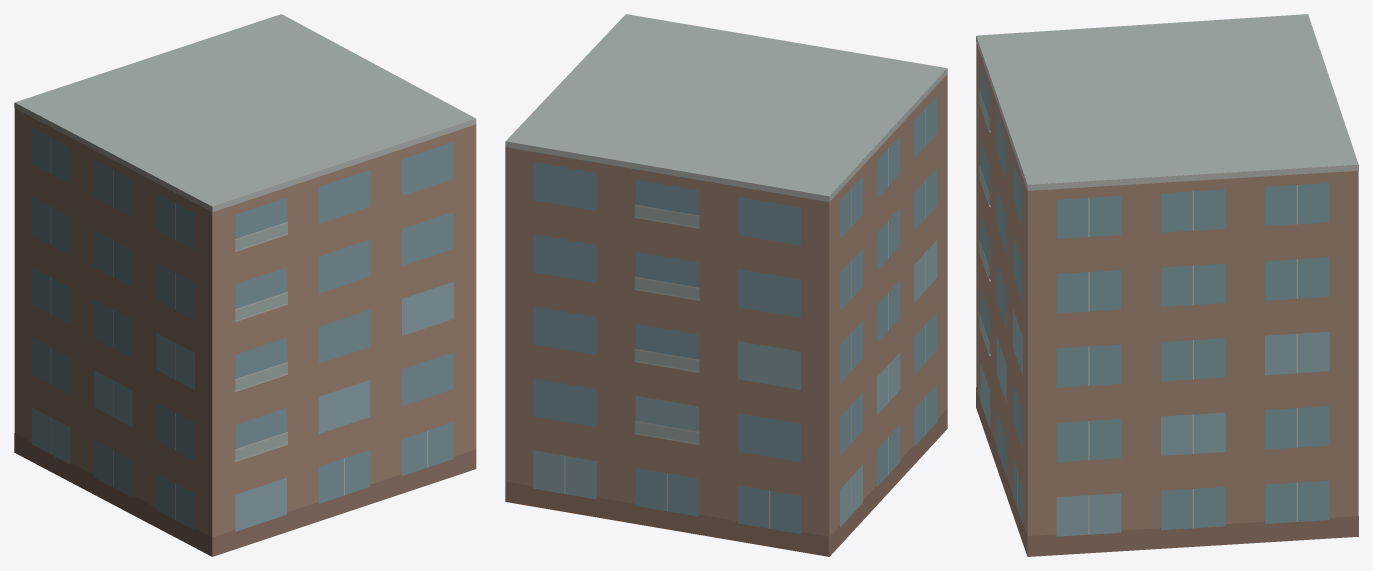
Rendered from survey-upis-32730912.glb.
The picture shows the model from 3 angles, left to right: view 1: azimuth 30°, elevation 25°; view 2: azimuth 150°, elevation 25°; view 3: azimuth 270°, elevation 25°; orthographic projection. The views are drawn at different scales.
Visible parts, largest first — view 1: survey-upis-32730912.tmp; view 2: survey-upis-32730912.tmp; view 3: survey-upis-32730912.tmp.
Part boxes in pixels (x1,y1,x2,y2): survey-upis-32730912.tmp: [14, 14, 476, 556]; survey-upis-32730912.tmp: [505, 14, 947, 556]; survey-upis-32730912.tmp: [976, 14, 1358, 556].
Bounding box in the file's own units: 14.94 × 15.15 × 14.14.
